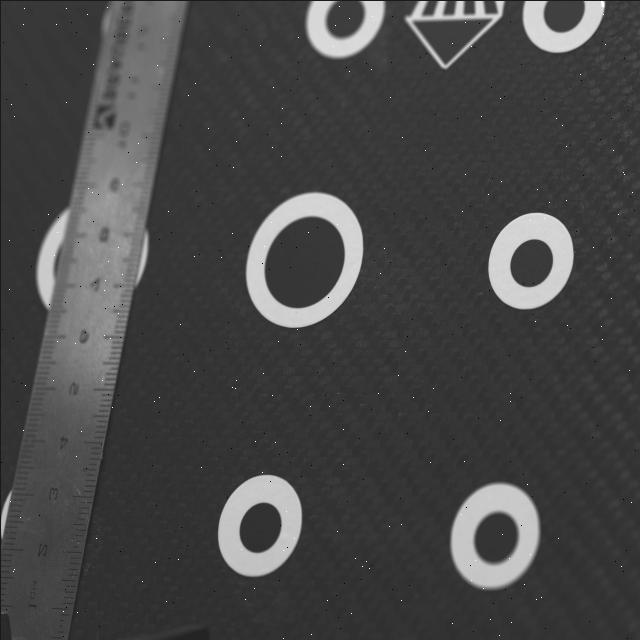circle point: (264, 215, 344, 308), (473, 510, 518, 563), (238, 502, 280, 554), (509, 238, 551, 286), (324, 0, 364, 38), (542, 1, 584, 32)
white circle: (245, 191, 362, 327), (449, 482, 539, 589), (216, 472, 301, 576), (488, 211, 572, 309), (306, 0, 384, 58), (522, 0, 604, 53)
